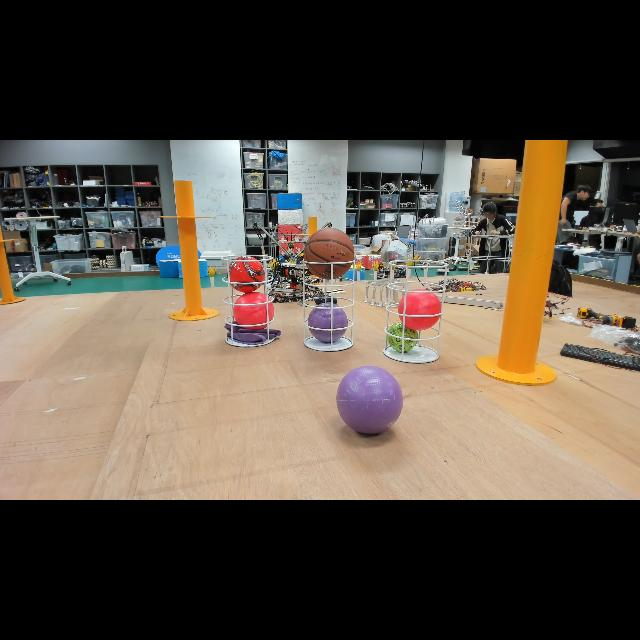P: (335, 364, 405, 436), (306, 300, 350, 346)
R: (395, 288, 443, 332), (230, 290, 276, 332)
S: (382, 259, 450, 365), (220, 254, 276, 348), (302, 255, 356, 352)
